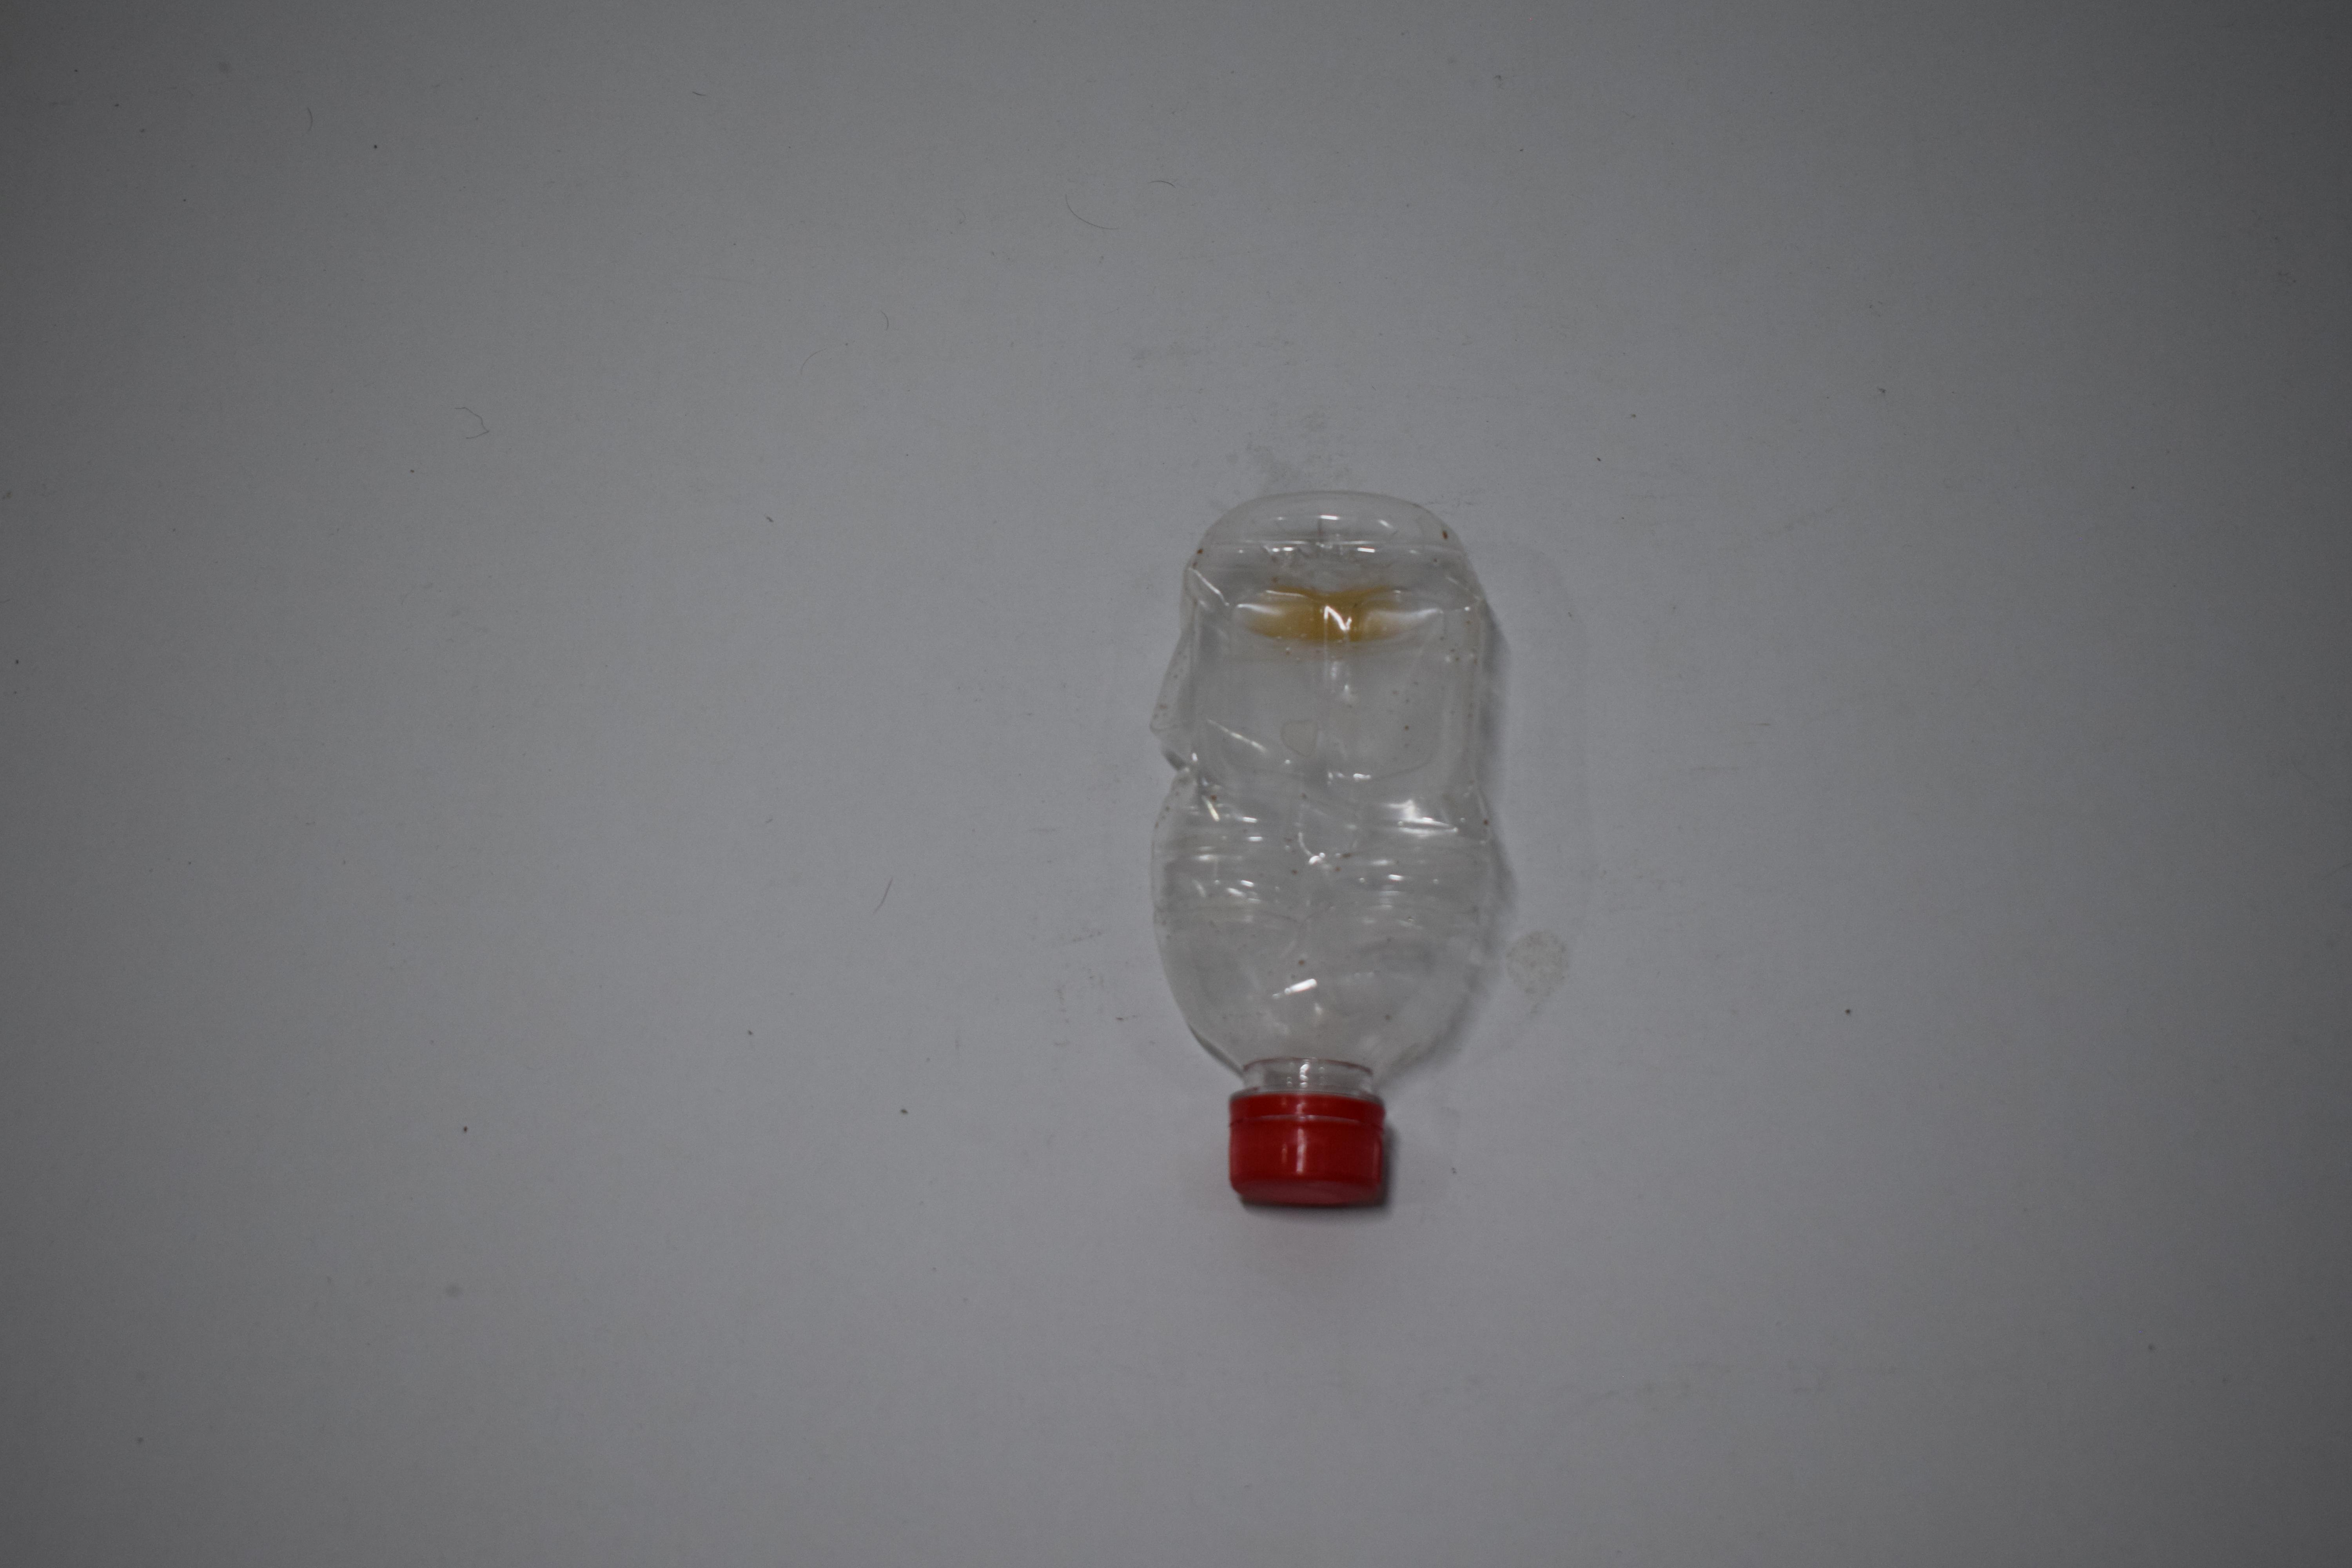bottle: (0, 0, 345, 427)
